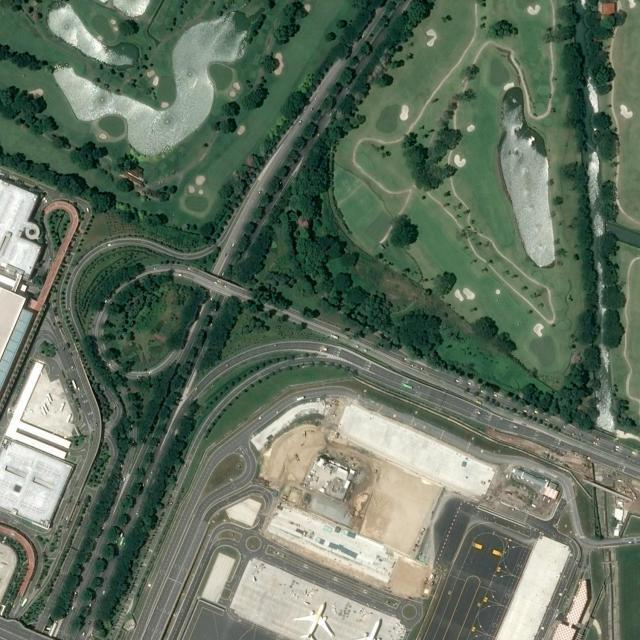Aircraft: (294, 601, 336, 640), (345, 619, 392, 640)
